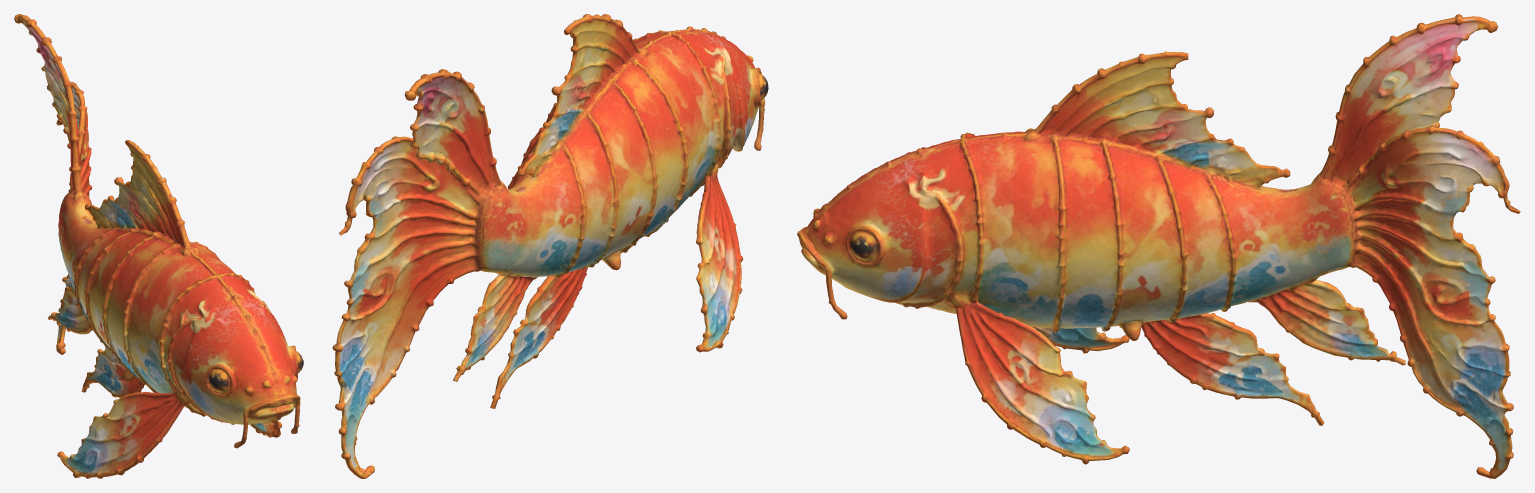
File: 金鲤鱼灯50000.glb
The picture shows the model from 3 angles, left to right: view 1: azimuth 30°, elevation 25°; view 2: azimuth 150°, elevation 25°; view 3: azimuth 270°, elevation 25°; orthographic projection. The views are drawn at different scales.
Visible parts, largest first — view 1: tripo_node_c4c03965-6ca8-4a8f-9d2a-a71adbf44c0d; view 2: tripo_node_c4c03965-6ca8-4a8f-9d2a-a71adbf44c0d; view 3: tripo_node_c4c03965-6ca8-4a8f-9d2a-a71adbf44c0d.
Boxes of the visible parts, <box> form: tripo_node_c4c03965-6ca8-4a8f-9d2a-a71adbf44c0d: <box>14,14,303,478</box>; tripo_node_c4c03965-6ca8-4a8f-9d2a-a71adbf44c0d: <box>332,14,768,478</box>; tripo_node_c4c03965-6ca8-4a8f-9d2a-a71adbf44c0d: <box>797,14,1520,478</box>.
Bounding box in the file's own units: 0.3777 × 0.6681 × 1.
1 material, 1 textured.
